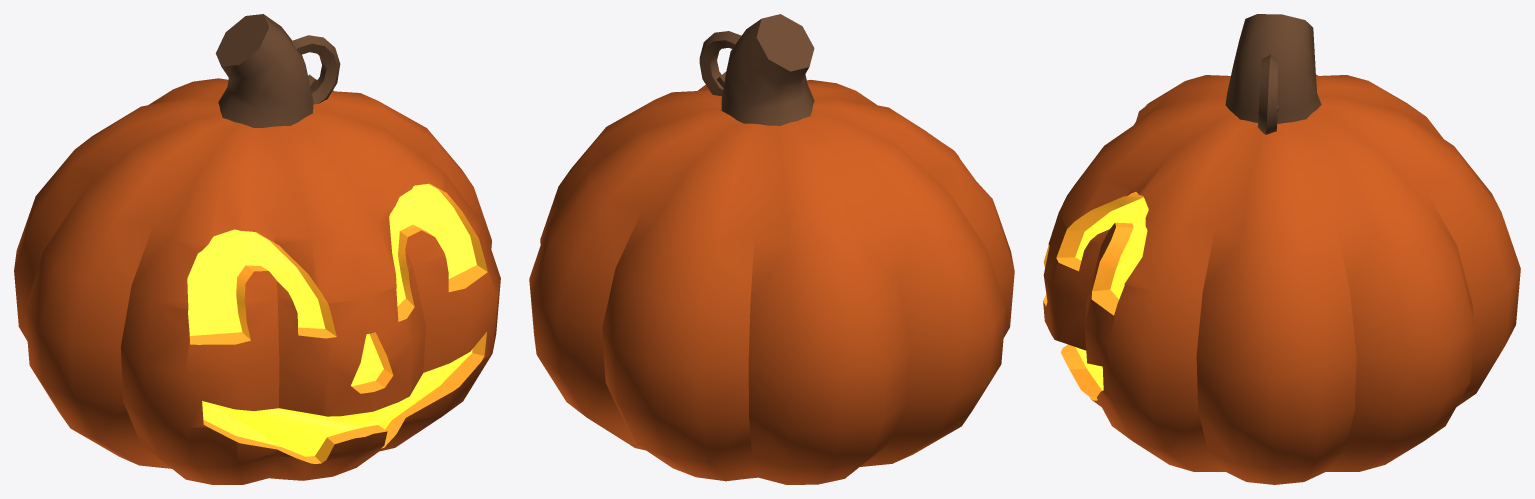
File: pumpkin.glb
3 views of the same model, side by side, from view 1: azimuth 30°, elevation 25°; view 2: azimuth 150°, elevation 25°; view 3: azimuth 270°, elevation 25° (orthographic).
Visible parts, largest first — view 1: PumpkinBody, PumpkinStem, PumpkinTendril; view 2: PumpkinBody, PumpkinStem, PumpkinTendril; view 3: PumpkinBody, PumpkinStem, PumpkinTendril.
Part boxes in pixels (box(x1,y1,x2,y2)): PumpkinBody: box(14, 78, 500, 484); PumpkinStem: box(215, 14, 313, 127); PumpkinTendril: box(292, 35, 340, 104); PumpkinBody: box(529, 80, 1014, 484); PumpkinStem: box(721, 14, 814, 125); PumpkinTendril: box(699, 31, 741, 96); PumpkinBody: box(1043, 74, 1520, 484); PumpkinStem: box(1225, 14, 1321, 123); PumpkinTendril: box(1257, 54, 1278, 134).
Size of the model in its own units: 2.16 by 2.05 by 2.02.
